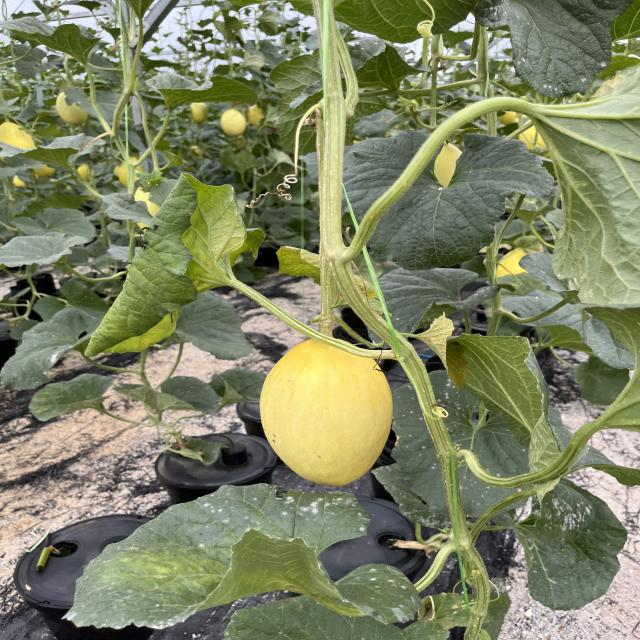CMV: (80, 177, 260, 348)
alternaria leaf blight: (418, 311, 474, 391)
downy mildew: (497, 0, 640, 98)
healthy: (471, 321, 565, 471), (1, 15, 107, 66), (2, 131, 110, 174)
powdery mildew: (73, 473, 426, 626), (519, 487, 624, 614)
